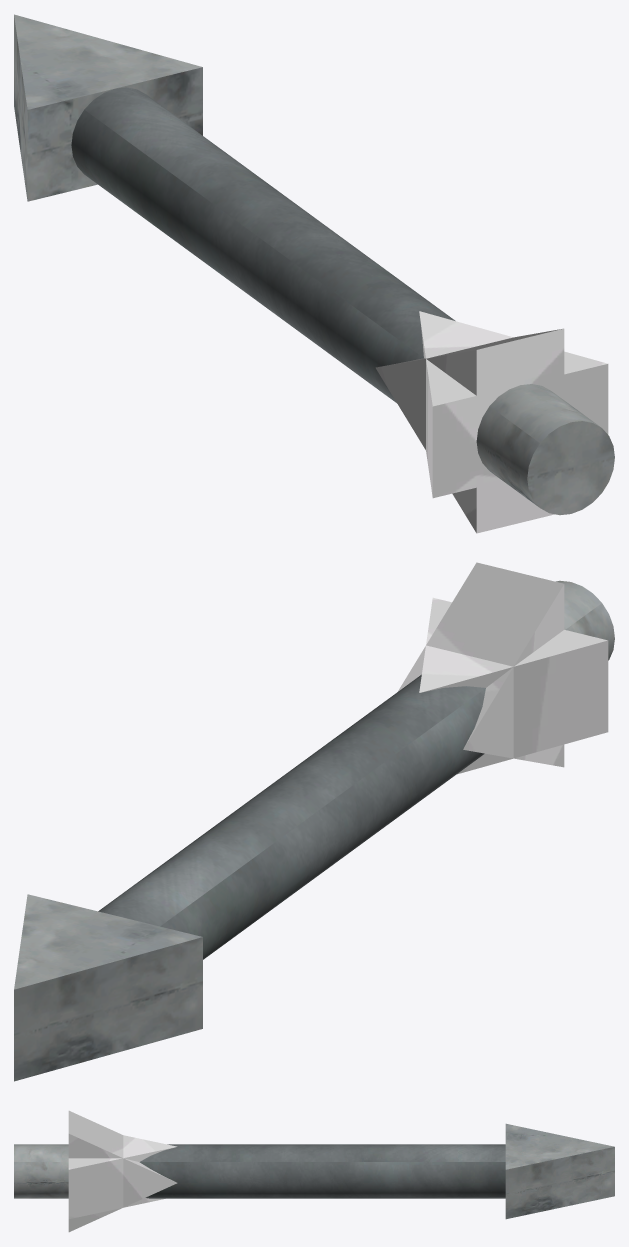
The model's file is Arrow.obj.
The picture shows the model from 3 angles, top to bottom: view 1: azimuth 30°, elevation 25°; view 2: azimuth 150°, elevation 25°; view 3: azimuth 270°, elevation 25°; orthographic projection. The views are drawn at different scales.
Size of the model in its own units: 0.2 by 0.2 by 1.1.
